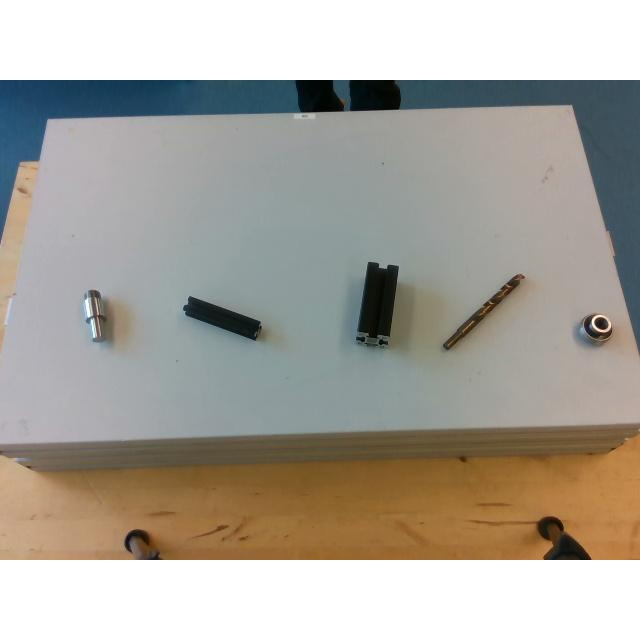Axis2: (82, 289, 106, 339)
Bearing2: (581, 313, 611, 341)
Drill: (442, 273, 526, 351)
F20_20_B: (182, 296, 262, 340)
S40_40_B: (356, 262, 396, 346)
